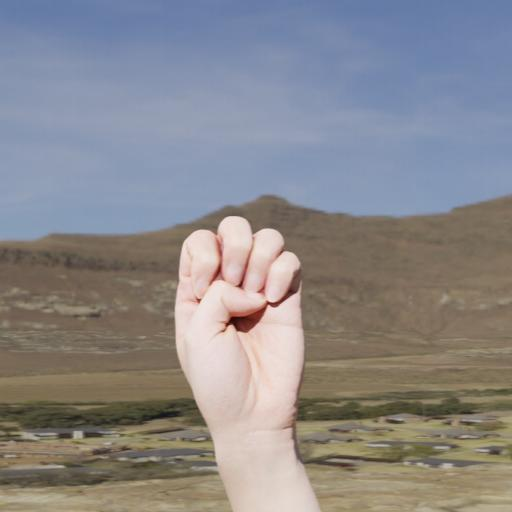E: (145, 204, 349, 432)
